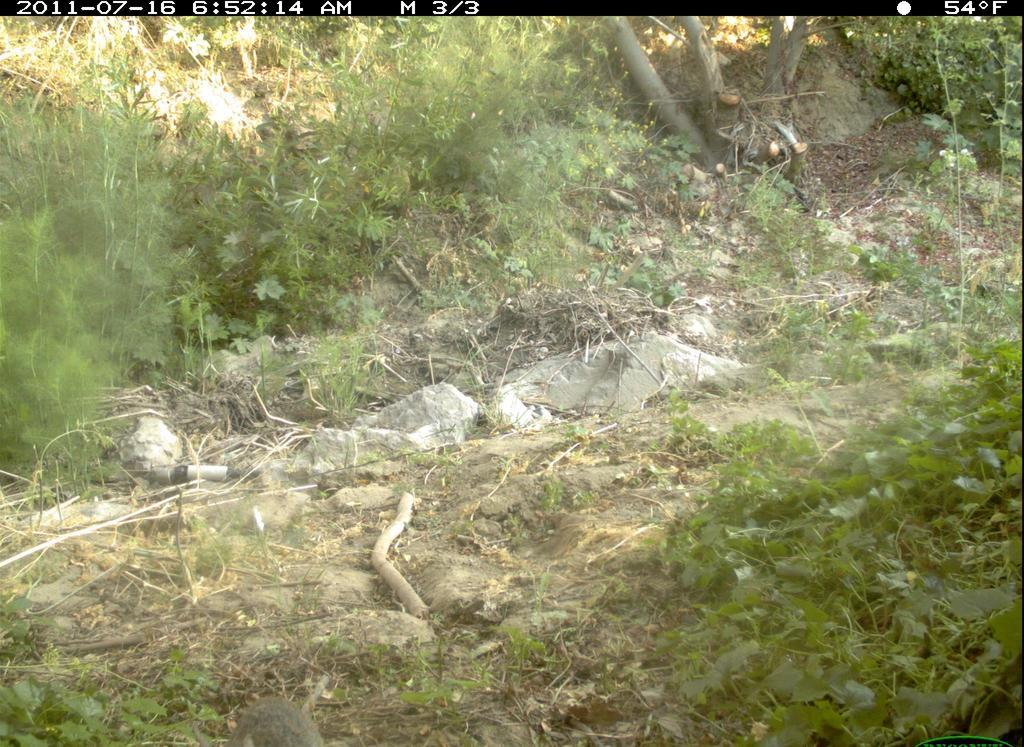rabbit: (189, 691, 330, 747)
